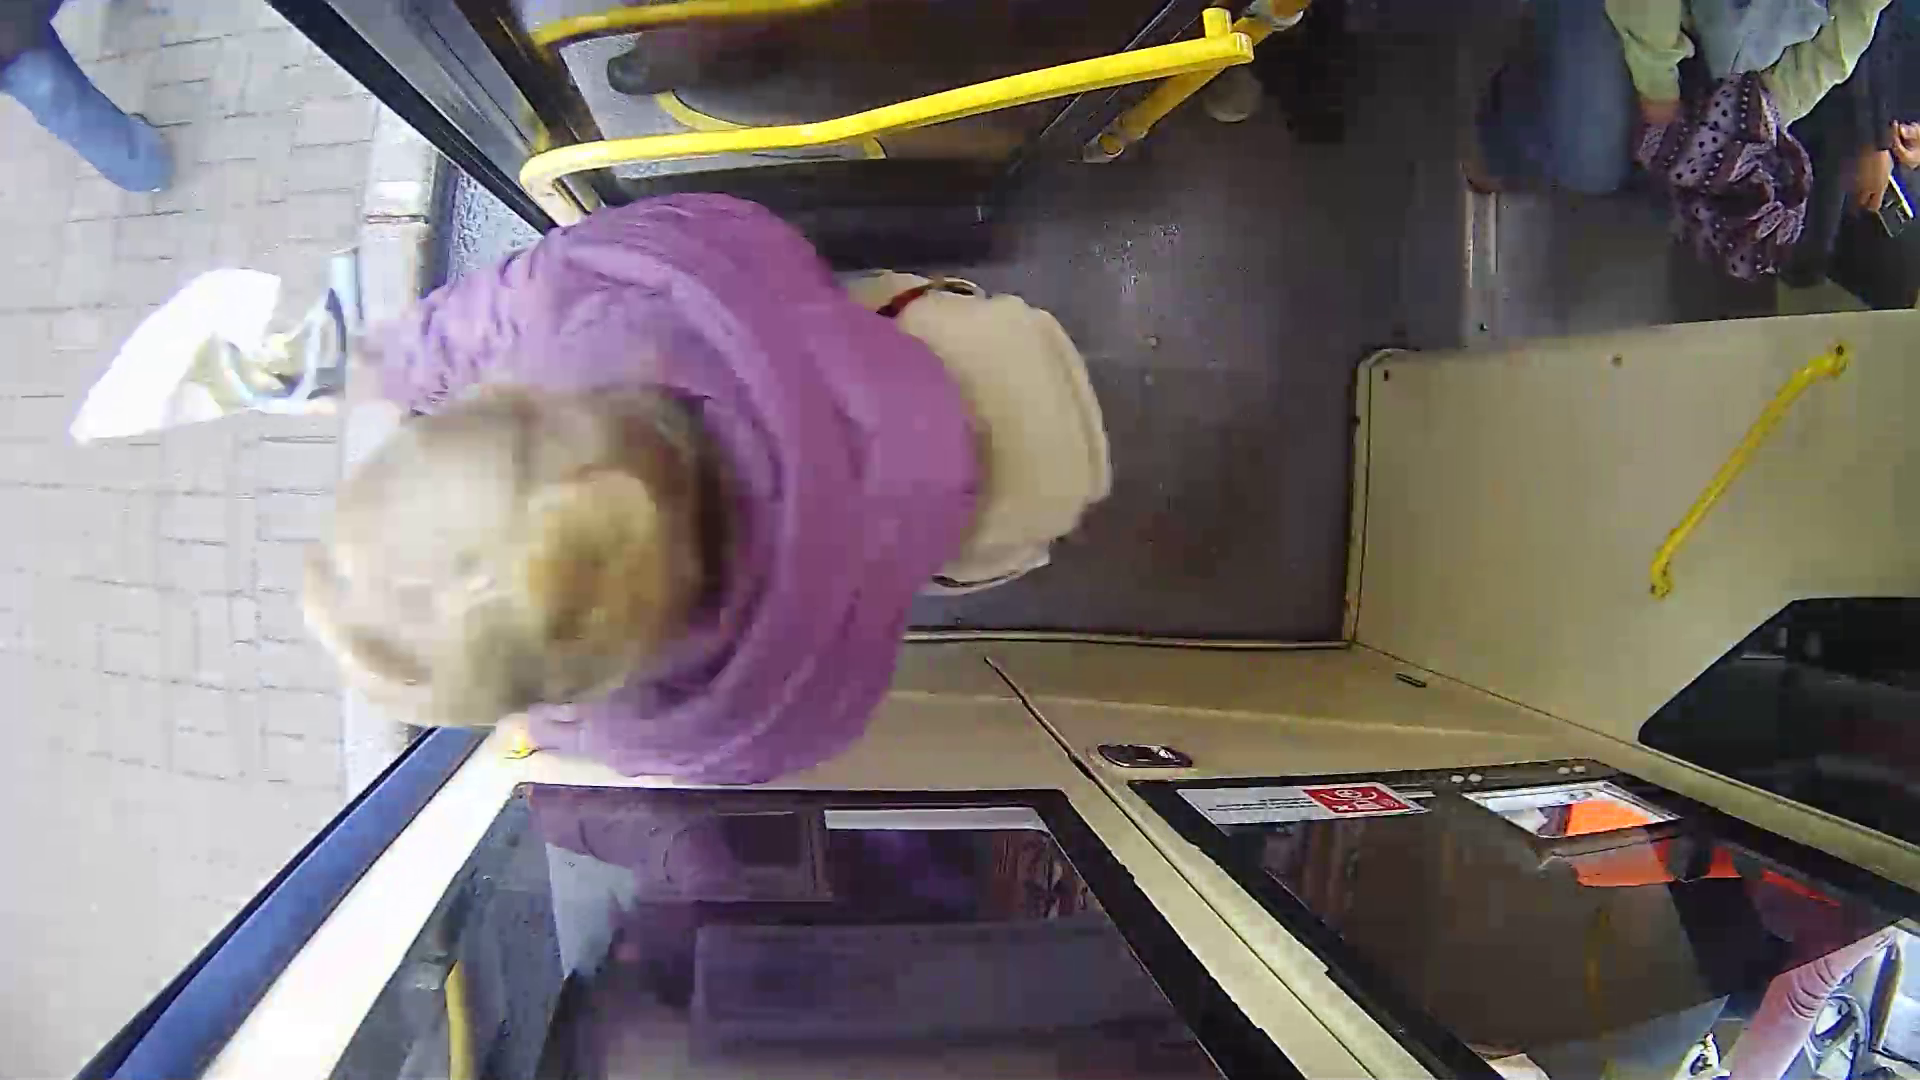person: (300, 174, 1109, 760)
